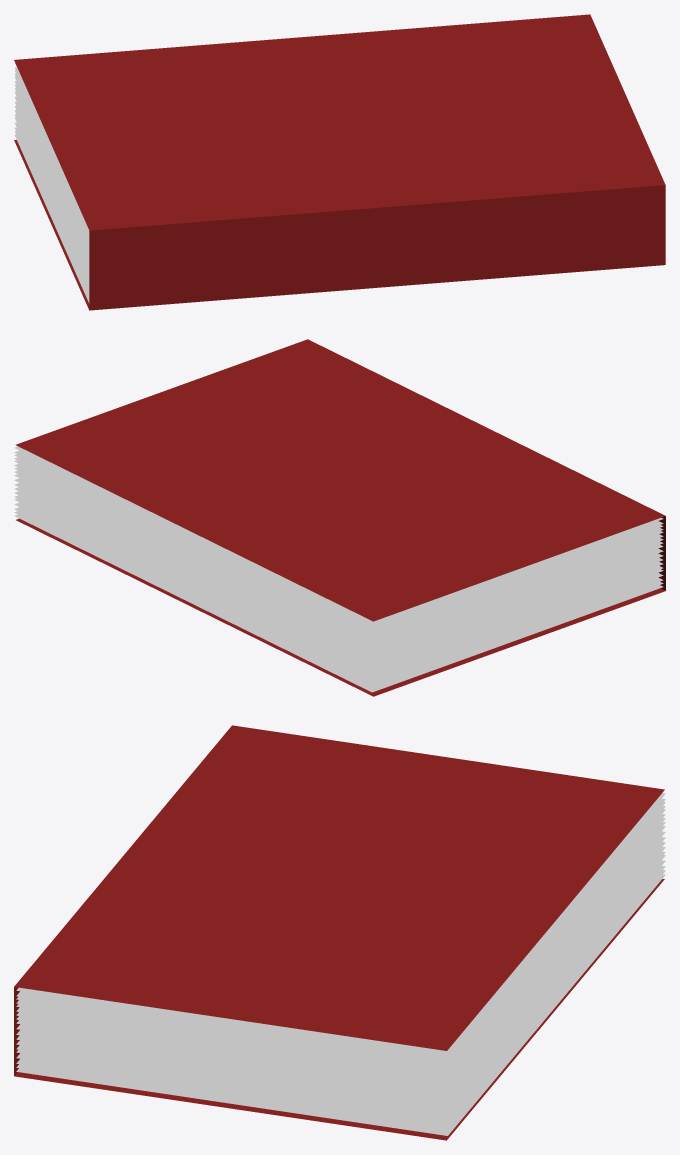
Rendered from book_2.glb.
3 renders of one model, top to bottom at view 1: azimuth 30°, elevation 25°; view 2: azimuth 150°, elevation 25°; view 3: azimuth 270°, elevation 25°, orthographic. The views are drawn at different scales.
Parts seen in each view (by area): view 1: sites, Plane.019; view 2: sites, Plane.019; view 3: sites, Plane.019.
Part boxes in pixels (box(x1,y1,x2,y2)): sites: box(14, 14, 665, 310); Plane.019: box(14, 62, 665, 303); sites: box(16, 339, 665, 696); Plane.019: box(14, 446, 663, 692); sites: box(14, 725, 664, 1140); Plane.019: box(16, 793, 665, 1135).
Size of the model in its own units: 2.36 by 0.3019 by 1.99.
